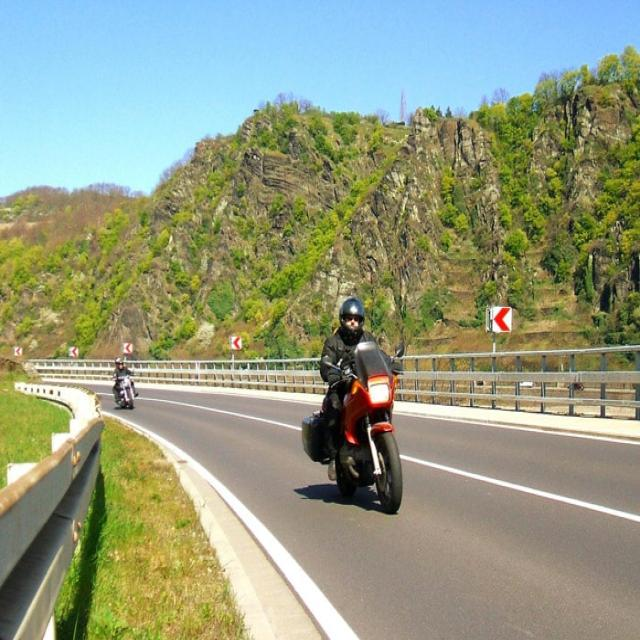MOTORCYCLE: (308, 321, 409, 512), (116, 371, 138, 415)
